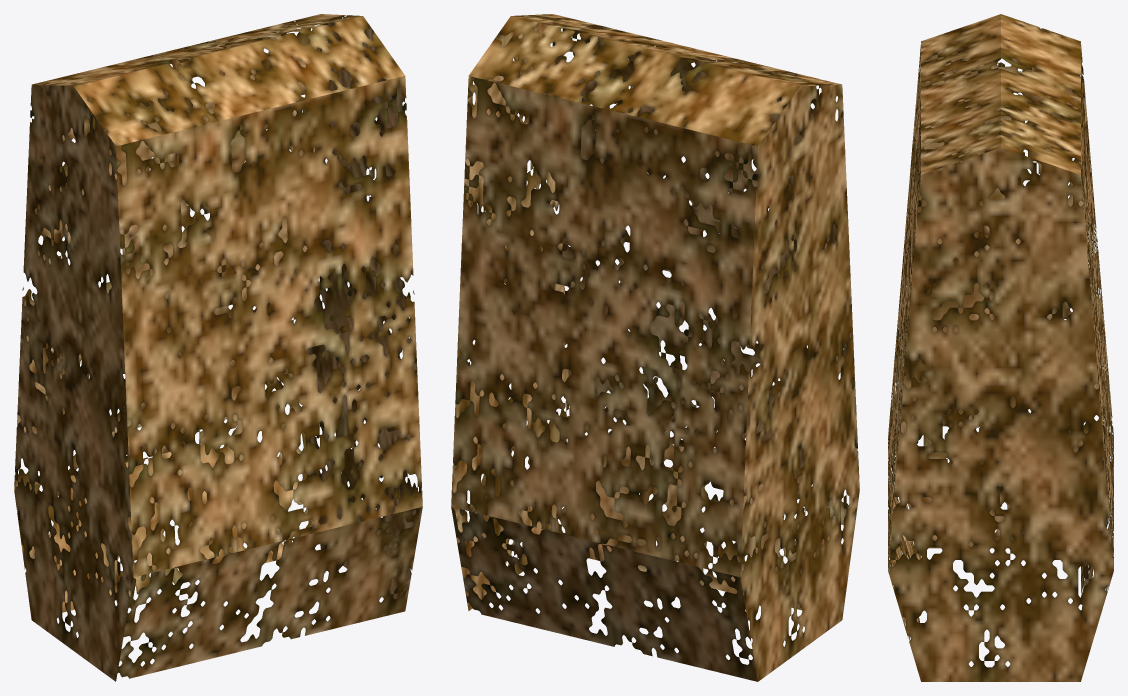
Rendered from bush_tall_half_autumn.fbx.
3 renders of one model, left to right at view 1: azimuth 30°, elevation 25°; view 2: azimuth 150°, elevation 25°; view 3: azimuth 270°, elevation 25°, orthographic. The views are drawn at different scales.
Parts seen in each view (by area): view 1: bush_tall_half_autumn; view 2: bush_tall_half_autumn; view 3: bush_tall_half_autumn.
Boxes of the visible parts, x1=… form: bush_tall_half_autumn: x1=14, y1=14, x2=422, y2=681; bush_tall_half_autumn: x1=451, y1=14, x2=859, y2=681; bush_tall_half_autumn: x1=888, y1=14, x2=1113, y2=681.
Size of the model in its own units: 101 by 188 by 71.91.
Materials: 1 (1 with a texture image).
